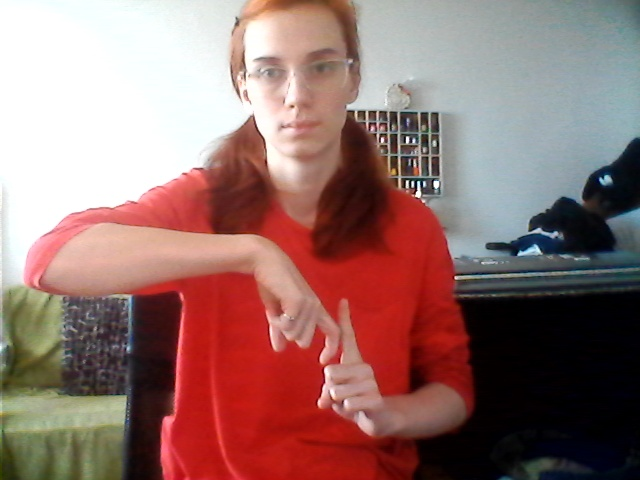k: (230, 227, 387, 445)
